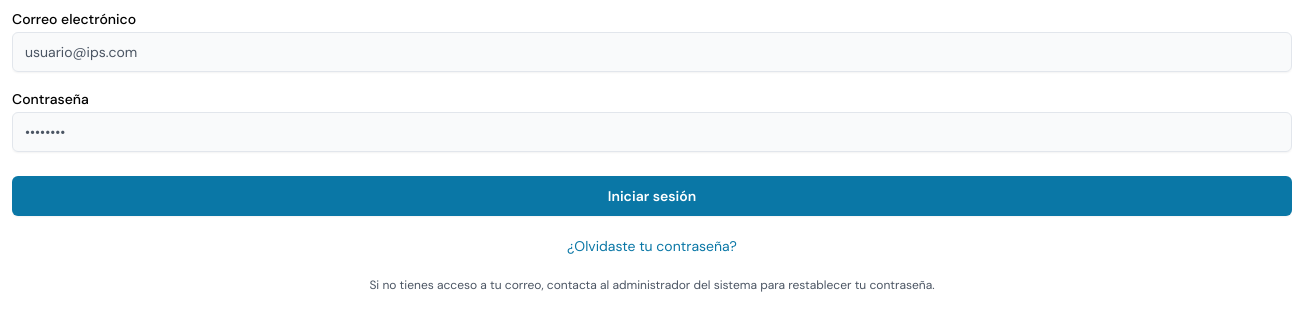
Test: LoginForm › shows validation error for short password
The width and height of the screenshot is (1304, 335).
Type "user@example.com" into the field labelled "Correo electrónico" at [652, 52], box [12,32,1292,72]
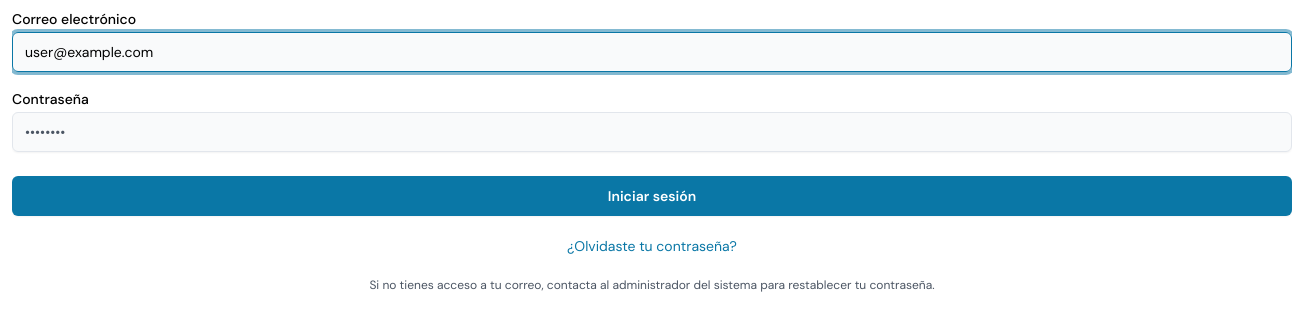
Type "short" into the password field labelled "Contraseña" at [652, 132], box [12,112,1292,152]
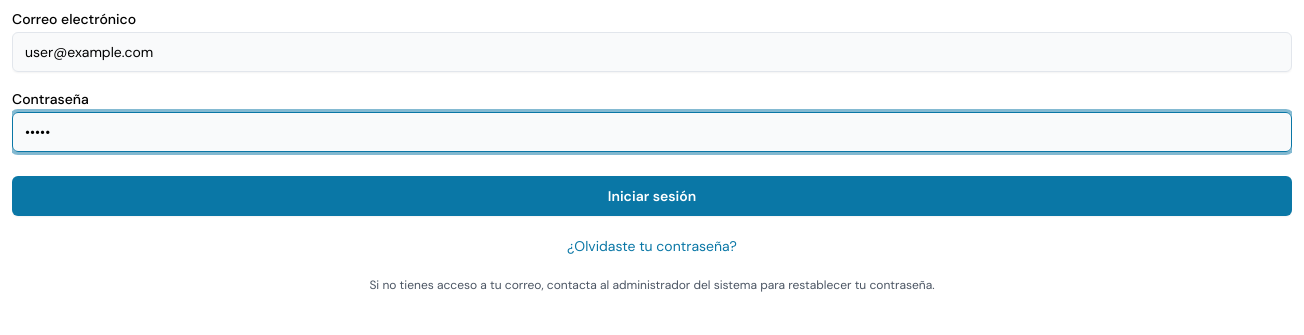
Click the button "Iniciar sesión" at [652, 196], box [12,176,1292,216]
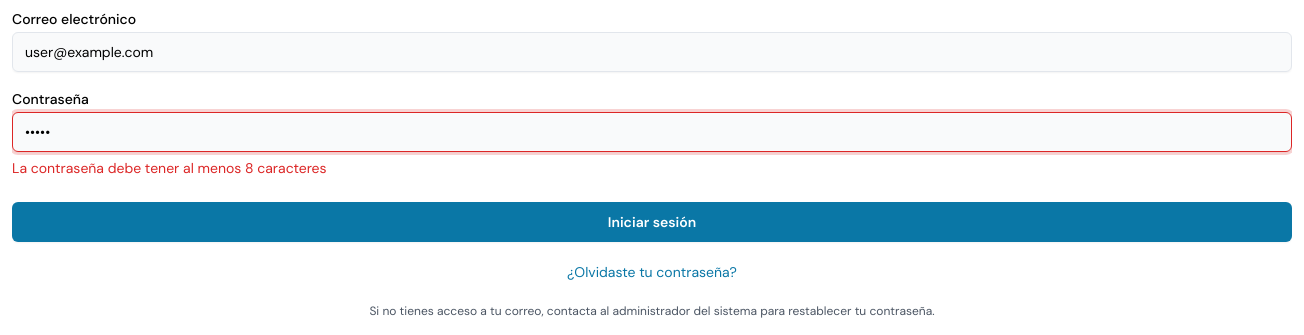
Expected: the text "La contraseña debe tener al menos 8 caracteres" is shown, [12,159,327,177]
